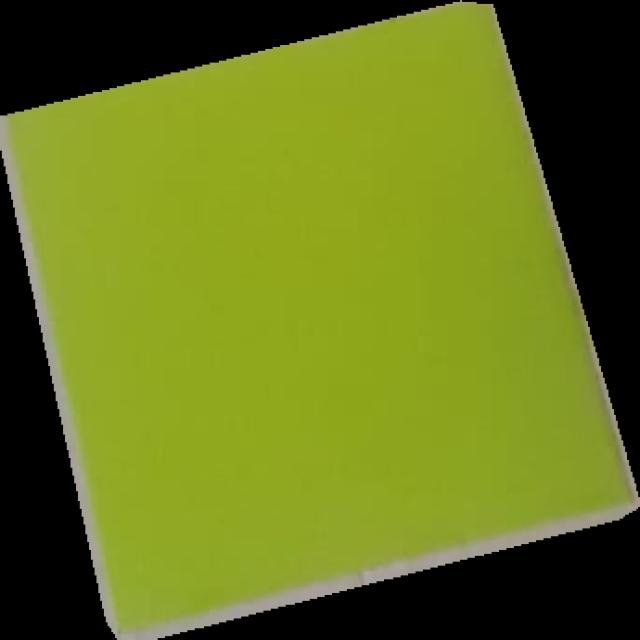Boxes: (0, 0, 640, 640)
